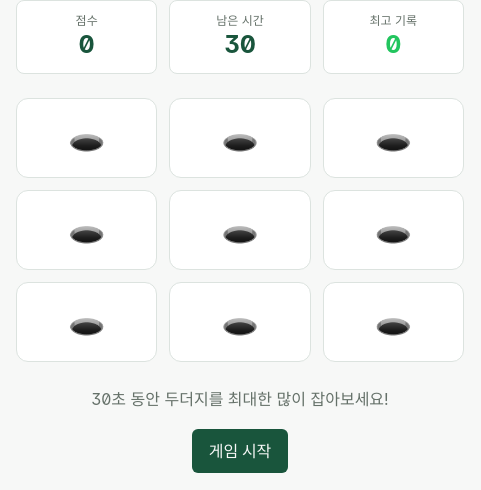
Test case: dynamic game semantics › labels mole and empty holes according to their current state
What coordinates should you click on to do the following:
click the button "게임 시작"
I would click on:
 (240, 451)
Its box is [192,429,288,473].
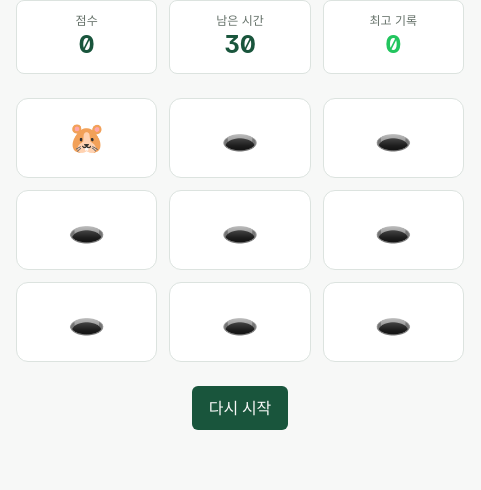
Result: the button "🐹" is shown at [16,98,157,178]
